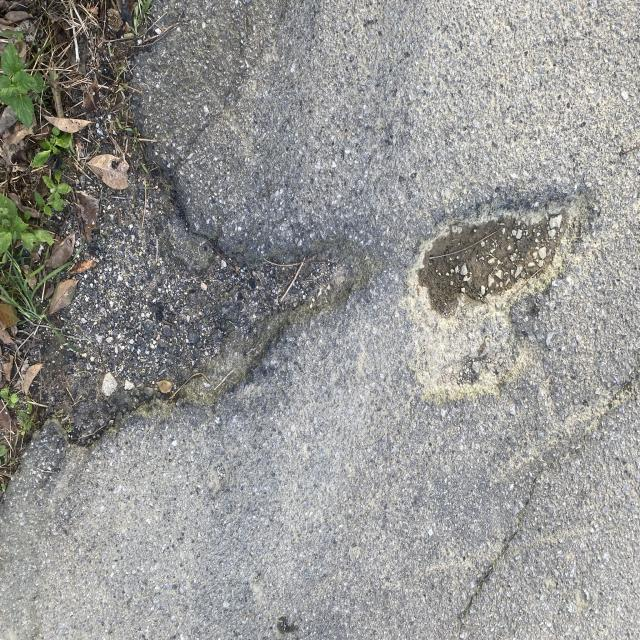Pothole: (395, 143, 587, 343)
